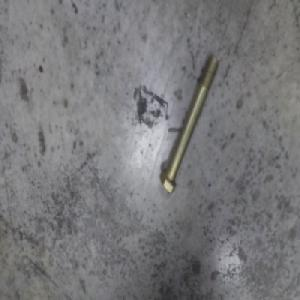Bolt: (159, 56, 218, 193)
